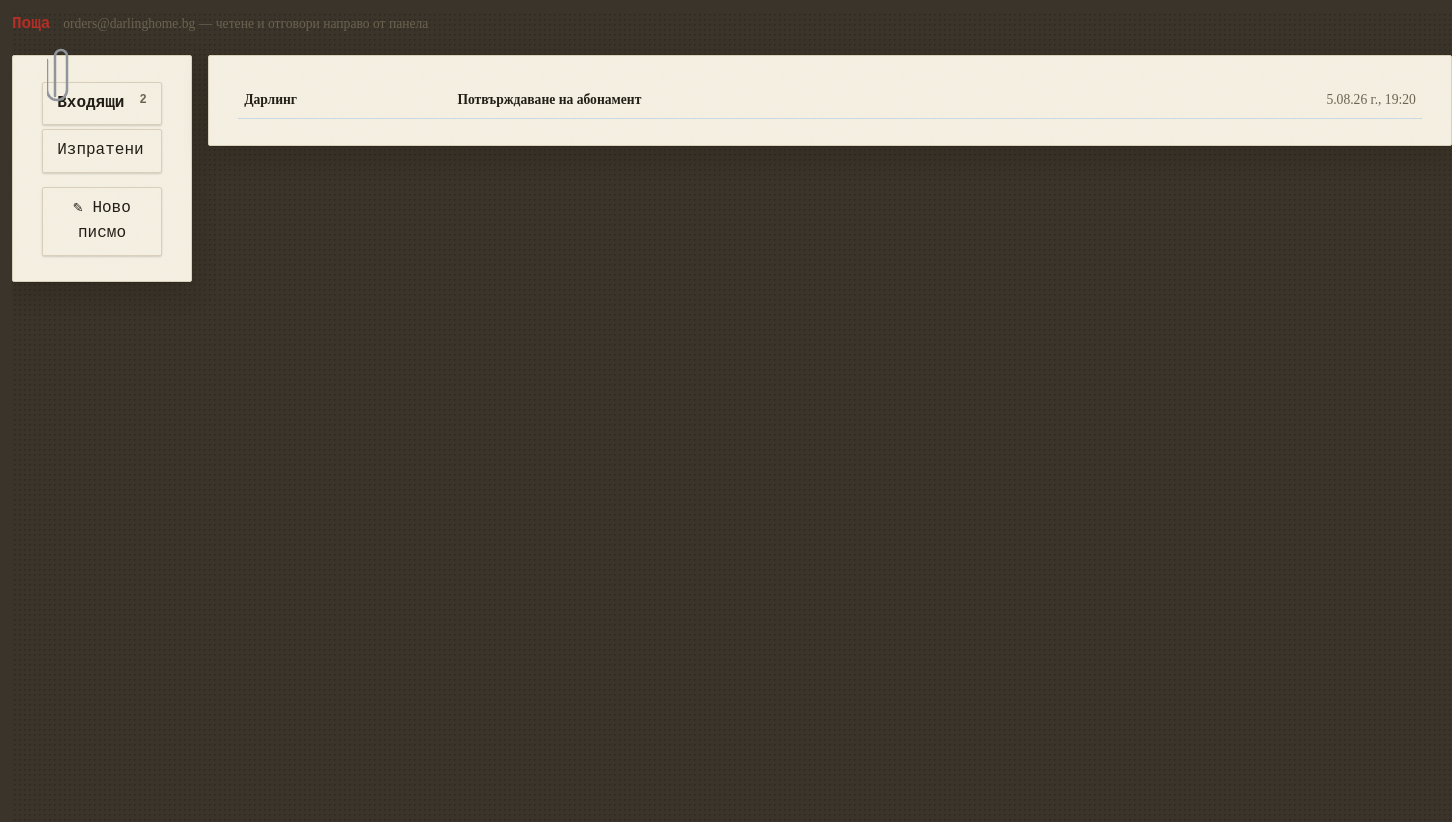
it: Поща › opens a message and renders its text body safely (no html injection path)
Click the row with test id "msg-18" at (830, 100), box [238,82,1422,118]
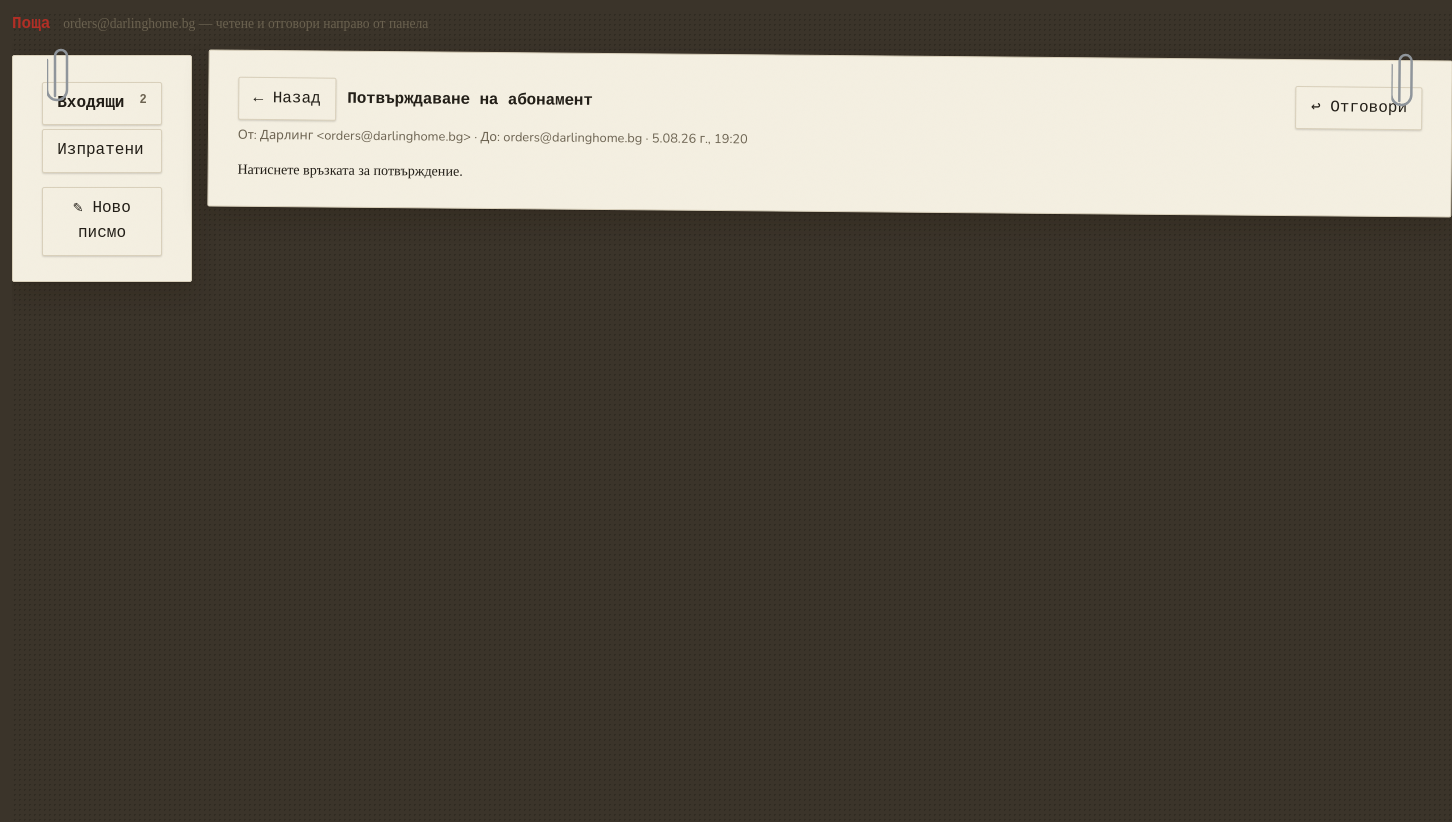
Expected: the text "Натиснете връзката за потвърждение." is shown, [237,161,463,179]
Expected: the button "↩ Отговори" is shown, [1295,86,1423,130]
